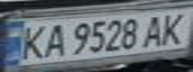2: (103, 16, 127, 53)
5: (87, 17, 109, 54)
8: (118, 15, 145, 51)
9: (66, 19, 90, 56)
A: (139, 12, 172, 47), (39, 20, 69, 58)
K: (15, 21, 51, 61), (154, 10, 193, 46)
